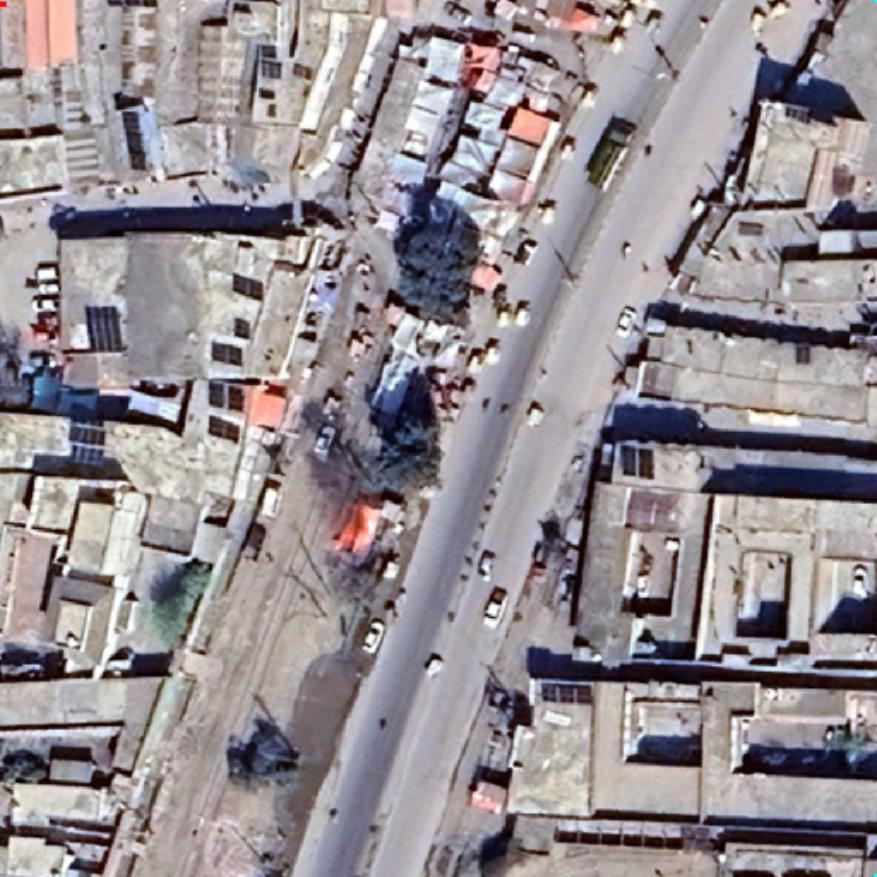Solarpanel: (78, 299, 130, 357), (62, 417, 114, 469), (535, 676, 599, 710), (616, 440, 659, 485), (204, 374, 250, 416), (227, 266, 269, 306), (202, 410, 246, 448), (251, 39, 286, 83), (205, 336, 247, 370), (229, 313, 255, 343)
